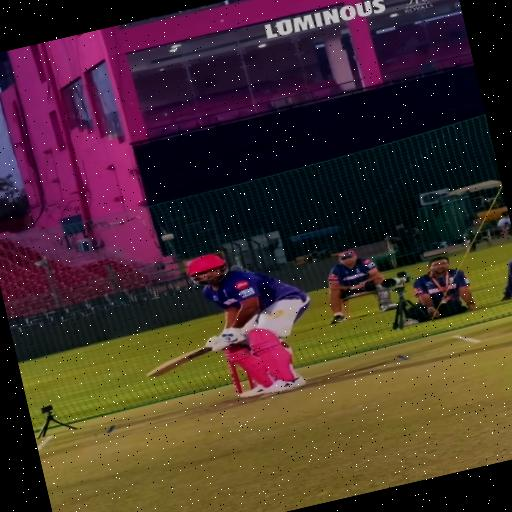Cricket bat: (148, 346, 212, 377)
